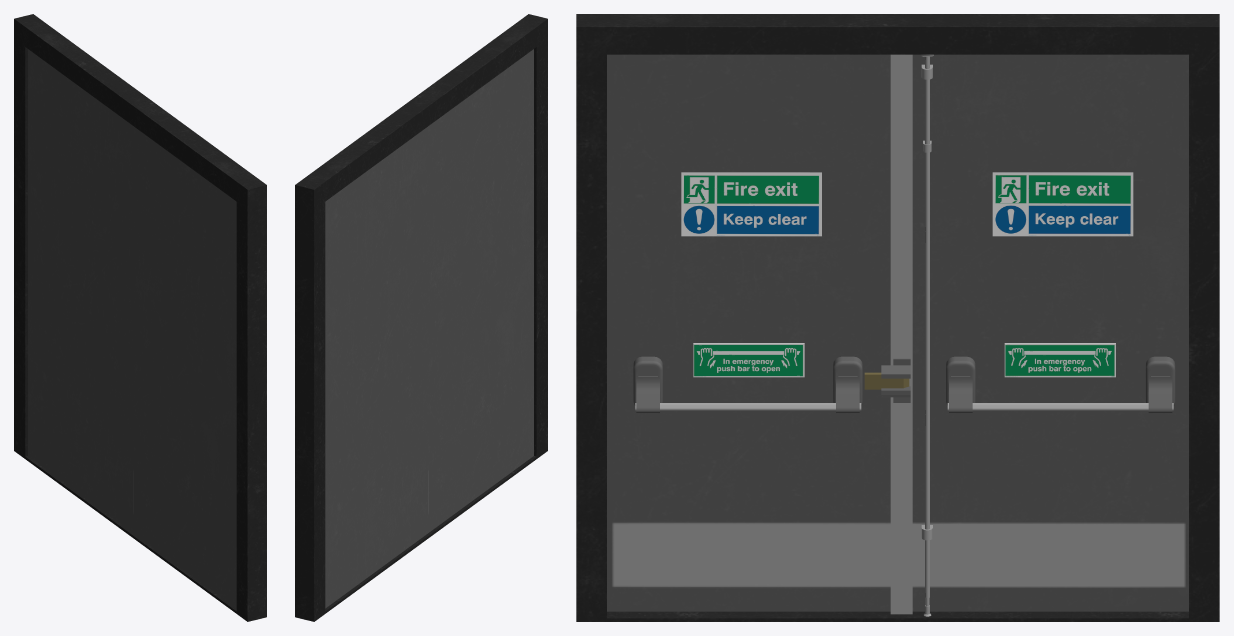
File: 1788457289704_emergency_fire_escape__exit_door_low_poly.glb
3 views of the same model, side by side, from view 1: azimuth 30°, elevation 25°; view 2: azimuth 150°, elevation 25°; view 3: azimuth 270°, elevation 25° (orthographic). The views are drawn at different scales.
Visible parts, largest first — view 1: Low_2, Low_1, Low_3; view 2: Low_1, Low_2, Low_3; view 3: Low_2, Low_1, Low_3, Low_9, Low_6, Low_5, Low_7, Low_4.
Boxes of the visible parts, left/top/right/bottom form: Low_2: left=28, top=49, right=133, bottom=532; Low_1: left=133, top=126, right=236, bottom=608; Low_3: left=14, top=14, right=266, bottom=621; Low_1: left=428, top=49, right=533, bottom=532; Low_2: left=325, top=126, right=428, bottom=608; Low_3: left=295, top=14, right=547, bottom=621; Low_2: left=890, top=54, right=1188, bottom=614; Low_1: left=607, top=54, right=890, bottom=611; Low_3: left=576, top=14, right=1219, bottom=621; Low_9: left=681, top=172, right=1133, bottom=377; Low_6: left=633, top=356, right=1175, bottom=413; Low_5: left=921, top=54, right=933, bottom=616; Low_7: left=635, top=403, right=1173, bottom=410; Low_4: left=881, top=358, right=910, bottom=402.
Size of the model in its own units: 168 by 2359 by 2310.
1 material, 1 textured.
